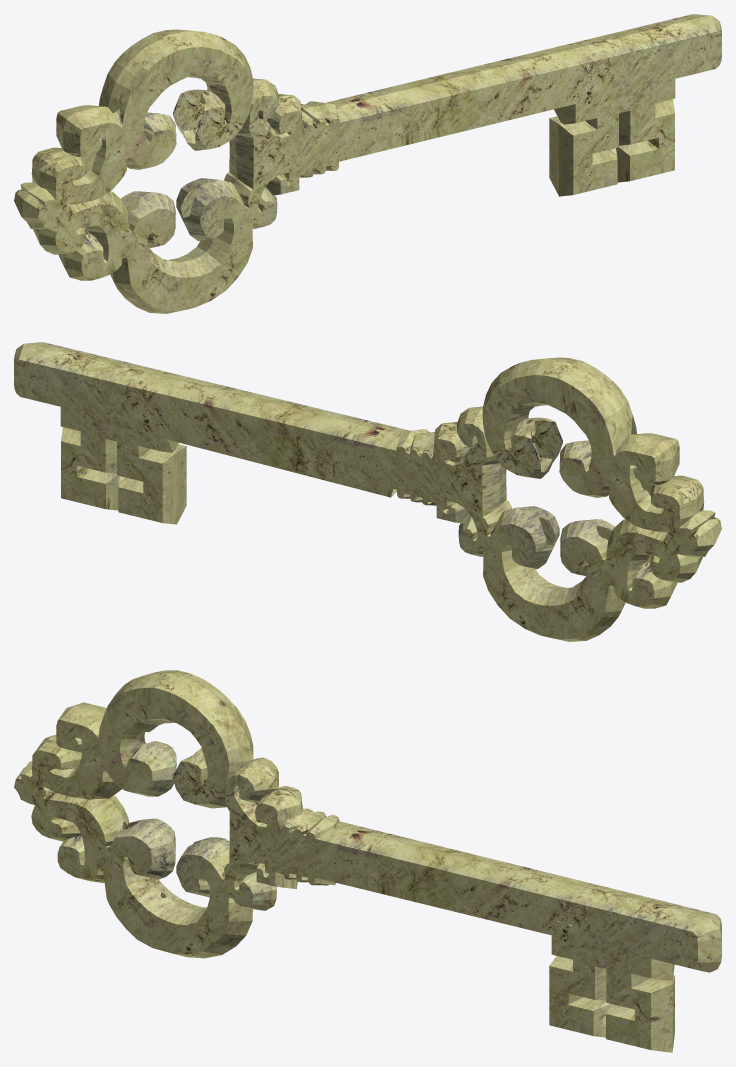
Rendered from key.obj.
3 renders of one model, top to bottom at view 1: azimuth 30°, elevation 25°; view 2: azimuth 150°, elevation 25°; view 3: azimuth 330°, elevation 25°, orthographic.
Parts seen in each view (by area): view 1: llave:Line001; view 2: llave:Line001; view 3: llave:Line001.
Boxes of the visible parts, box(x1,y1,x2,y2) form: llave:Line001: box(14, 14, 721, 313); llave:Line001: box(14, 342, 721, 641); llave:Line001: box(14, 670, 721, 1052).
Bounding box in the file's own units: 1.3 × 0.4968 × 0.0786.
1 material, 1 textured.
